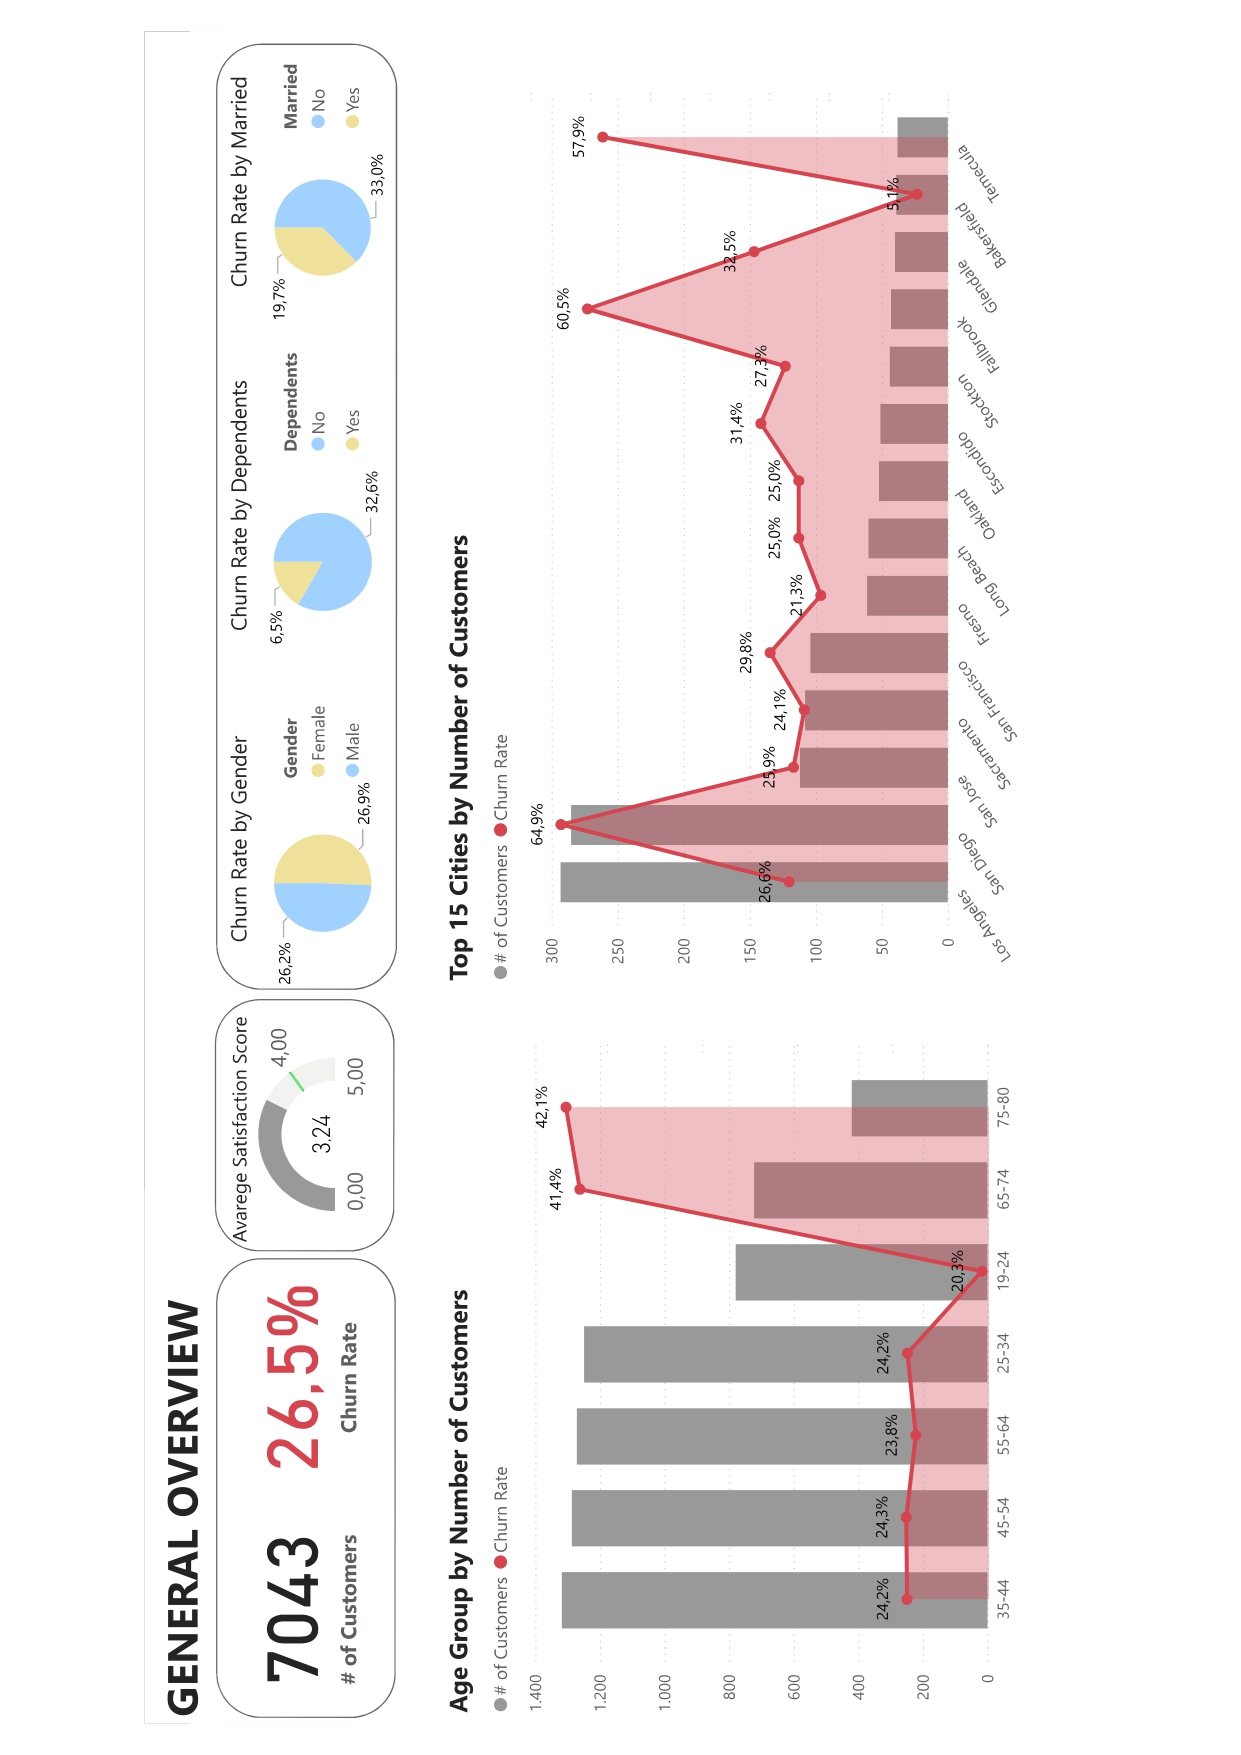

This screenshot's page, from the dashboard's own definition file:
{"tool":"powerbi","page":{"name":"General OverView","canvas":[1280,720],"ordinal":0},"visuals":[{"type":"pieChart","title":"Churn Rate by Gender","fields":{"Y":["Medidas.Churn Rate"],"Category":["Telco_Churn_Demographics.Gender"]},"box":[552.5,60.3,233.4,128.4],"z":0},{"type":"pieChart","title":"Churn Rate by Dependents","fields":{"Y":["Medidas.Churn Rate"],"Category":["Telco_Churn_Demographics.Dependents"]},"box":[789.8,60.3,263.6,128.4],"z":1000},{"type":"pieChart","title":"Churn Rate by Married","fields":{"Y":["Medidas.Churn Rate"],"Category":["Telco_Churn_Demographics.Married"]},"box":[1053.4,60.3,226.6,128.4],"z":2000},{"type":"gauge","title":"Avarege Satisfaction Score","fields":{"Y":["Avg(Telco_Churn_Status.Satisfaction Score)"]},"box":[358.9,61.3,197.4,118.7],"z":3000},{"type":"textbox","box":[0,0,403.6,61.3],"z":4000},{"type":"card","fields":{"Values":["Medidas.Churn Rate"]},"box":[168.3,61.3,186.7,108.9],"z":5000},{"type":"card","fields":{"Values":["Medidas.# of Customers"]},"box":[3.9,61.3,164.4,108.9],"z":6000},{"type":"shape","box":[357,52.5,190.6,136.2],"z":7000},{"type":"shape","box":[3.6,53.5,348.2,136],"z":8000},{"type":"shape","box":[555.4,54.5,715.9,136.2],"z":9000},{"type":"lineStackedColumnComboChart","title":"Age Group by Number of Customers","fields":{"Category":["Telco_Churn_Demographics.Age Group"],"Y":["Medidas.# of Customers"],"Y2":["Medidas.Churn Rate"]},"box":[2.9,223.7,548.6,444.5],"z":10000},{"type":"lineClusteredColumnComboChart","title":"Top 15 Cities by Number of Customers","fields":{"Category":["Telco_Churn_Location.City"],"Y":["Medidas.# of Customers"],"Y2":["Medidas.Churn Rate"]},"box":[556.6,223.8,714.4,460.6],"z":11000}]}

Visuals, with their boxes on the page's 1280x720 design canvas (x1, y1, x2, y2). These are canvas units, not pixel positions in the 1241x1755 screenshot, which may show the page scaled, cropped or inside an application window:
"Churn Rate by Gender" pieChart: x1=552, y1=60, x2=786, y2=189
"Churn Rate by Dependents" pieChart: x1=790, y1=60, x2=1053, y2=189
"Churn Rate by Married" pieChart: x1=1053, y1=60, x2=1280, y2=189
"Avarege Satisfaction Score" gauge: x1=359, y1=61, x2=556, y2=180
textbox: x1=0, y1=0, x2=404, y2=61
card - Medidas.Churn Rate: x1=168, y1=61, x2=355, y2=170
card - Medidas.# of Customers: x1=4, y1=61, x2=168, y2=170
shape: x1=357, y1=52, x2=548, y2=189
shape: x1=4, y1=54, x2=352, y2=190
shape: x1=555, y1=54, x2=1271, y2=191
"Age Group by Number of Customers" lineStackedColumnComboChart: x1=3, y1=224, x2=552, y2=668
"Top 15 Cities by Number of Customers" lineClusteredColumnComboChart: x1=557, y1=224, x2=1271, y2=684
